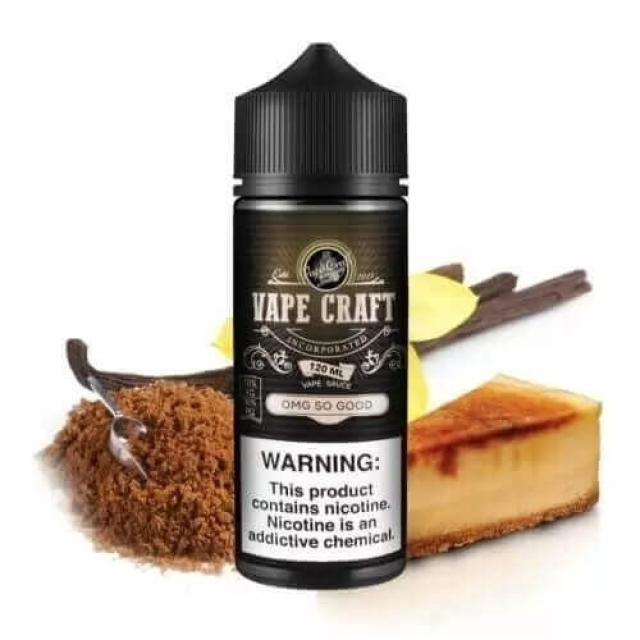Vapes: (229, 40, 411, 590)
